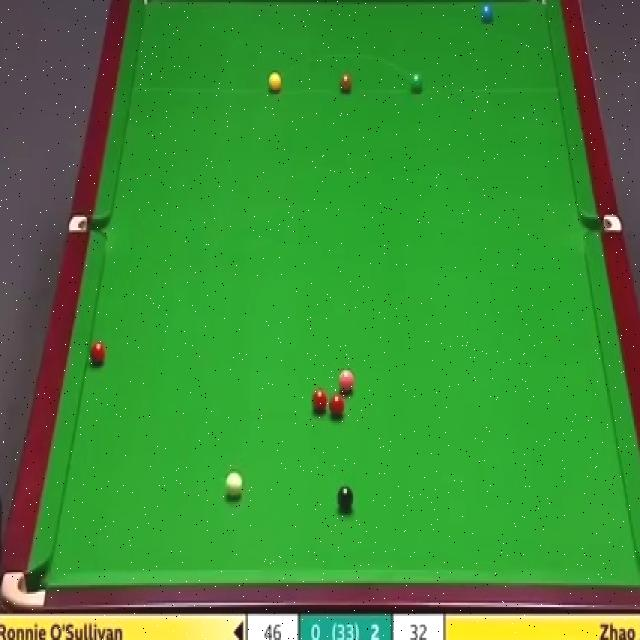black-ball: (335, 484, 355, 511)
blue-ball: (479, 3, 494, 22)
brown-ball: (338, 71, 353, 94)
green-ball: (408, 72, 423, 95)
pink-ball: (337, 367, 355, 394)
red-ball: (89, 341, 107, 367), (328, 394, 346, 419), (312, 388, 329, 411)
white-ball: (224, 467, 243, 497)
yellow-ball: (267, 70, 282, 93)
